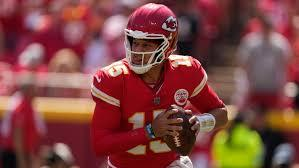americanFootball: (164, 105, 195, 155)
